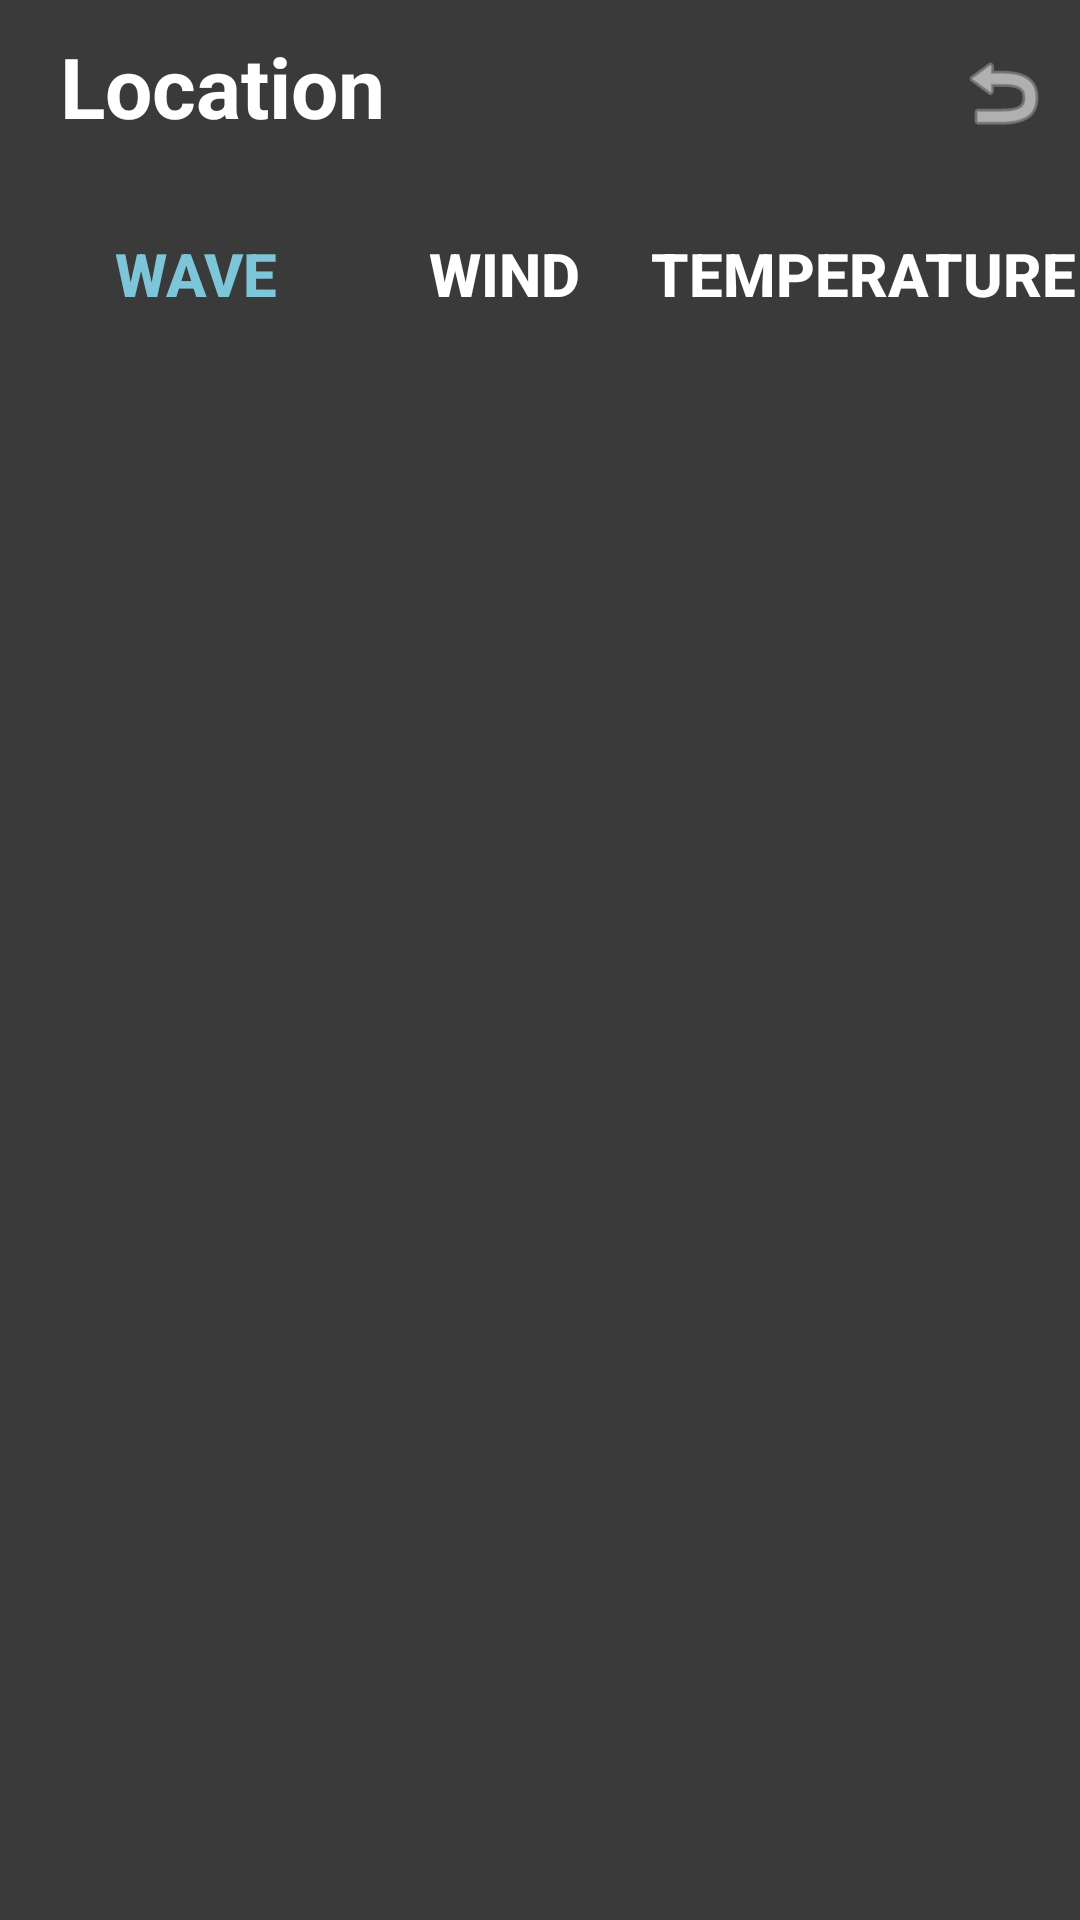

Point at icon controls on the screen. Image size 1080x1920, points as [x,y].
revert: [1004,94]
